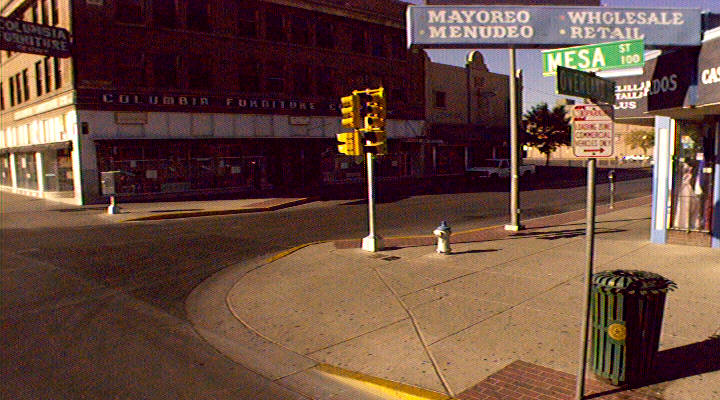Ramp: (182, 244, 450, 400), (1, 208, 136, 233)
